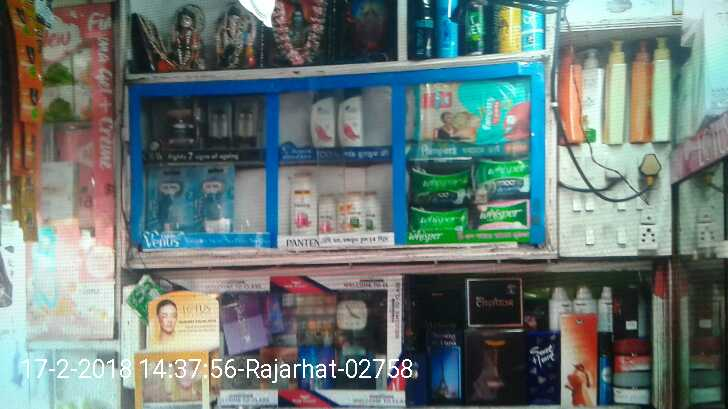venus: (154, 166, 196, 235), (196, 163, 235, 235)
